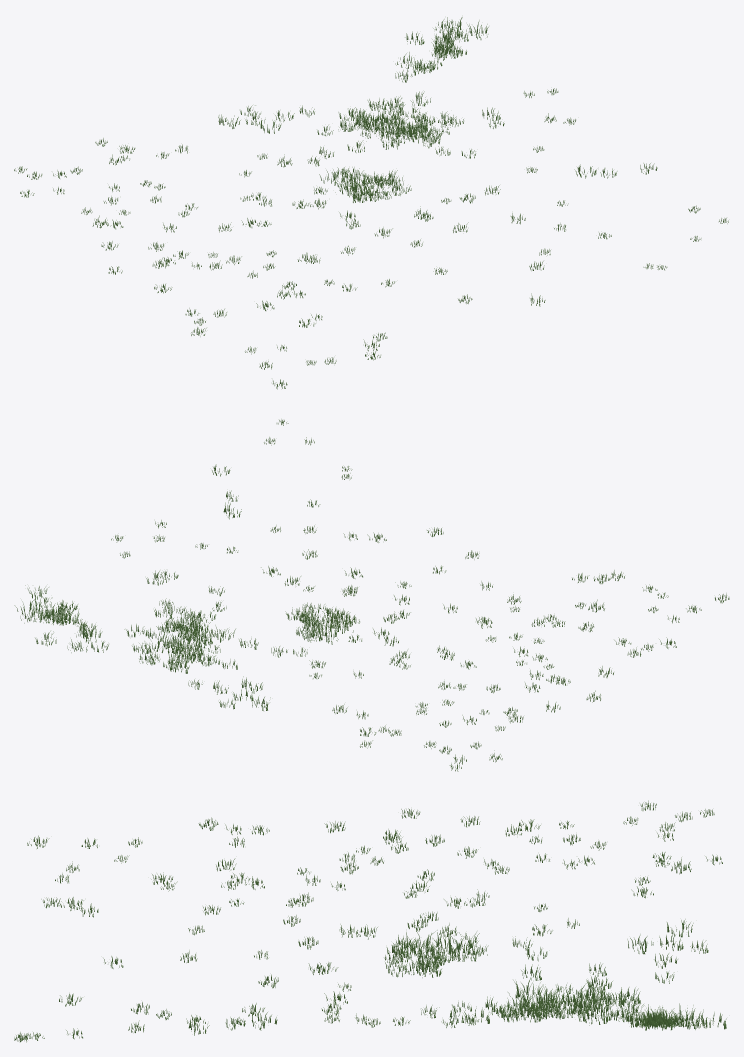
File: P2N_forest_grass_-8_5.glb
The picture shows the model from 3 angles, top to bottom: view 1: azimuth 30°, elevation 25°; view 2: azimuth 150°, elevation 25°; view 3: azimuth 270°, elevation 25°; orthographic projection. The views are drawn at different scales.
Visible parts, largest first — view 1: P2N_forest_grass_-8_5; view 2: P2N_forest_grass_-8_5; view 3: P2N_forest_grass_-8_5.
Part boxes in pixels (x1,y1,x2,y2): P2N_forest_grass_-8_5: (14, 17, 728, 389); P2N_forest_grass_-8_5: (14, 419, 729, 771); P2N_forest_grass_-8_5: (14, 800, 726, 1042).
Size of the model in its own units: 32.08 by 5.33 by 32.71.
